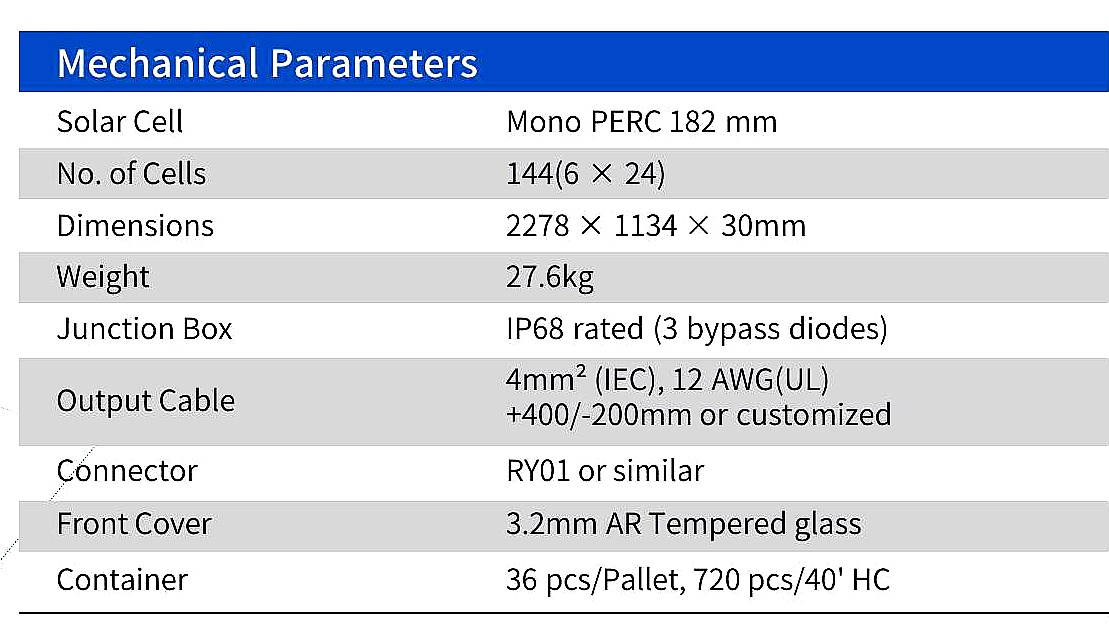table: (8, 15, 1109, 624)
table column: (492, 24, 1106, 612), (23, 26, 492, 613)
table name: (16, 29, 1106, 90)
table row: (13, 362, 1109, 443), (19, 32, 1107, 89), (13, 556, 1109, 608), (19, 94, 1109, 146), (15, 305, 1109, 355), (15, 448, 1109, 498), (17, 151, 1109, 198), (15, 201, 1109, 247), (18, 504, 1106, 550), (13, 256, 1109, 298)
table row header: (17, 31, 493, 614)
table spanning cell: (18, 36, 1108, 87)
